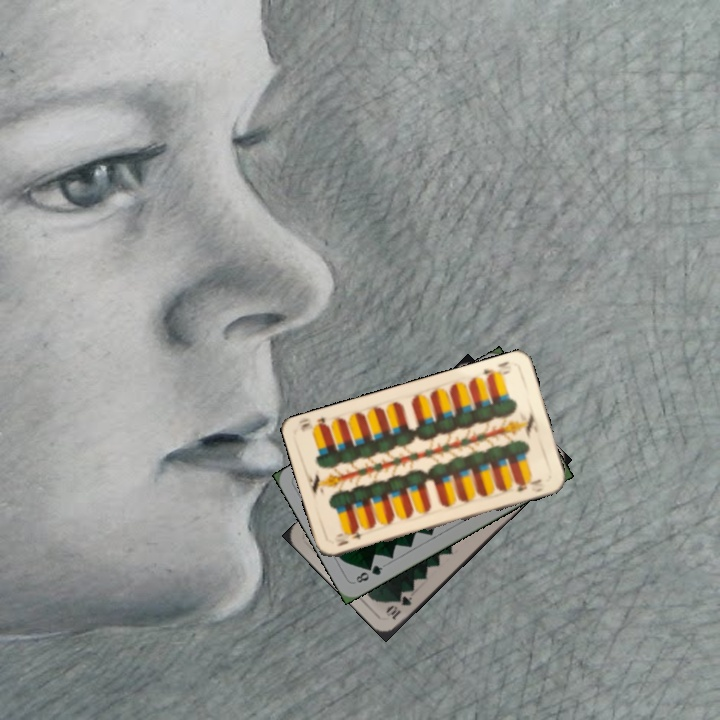E10: (478, 357, 514, 383), (332, 526, 369, 549)
G10: (382, 592, 415, 623)
G8: (351, 561, 386, 586)
